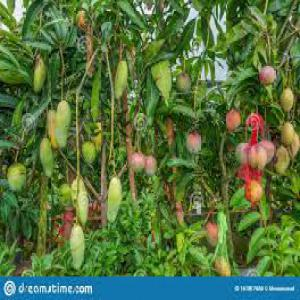Tree: (1, 0, 294, 272)
